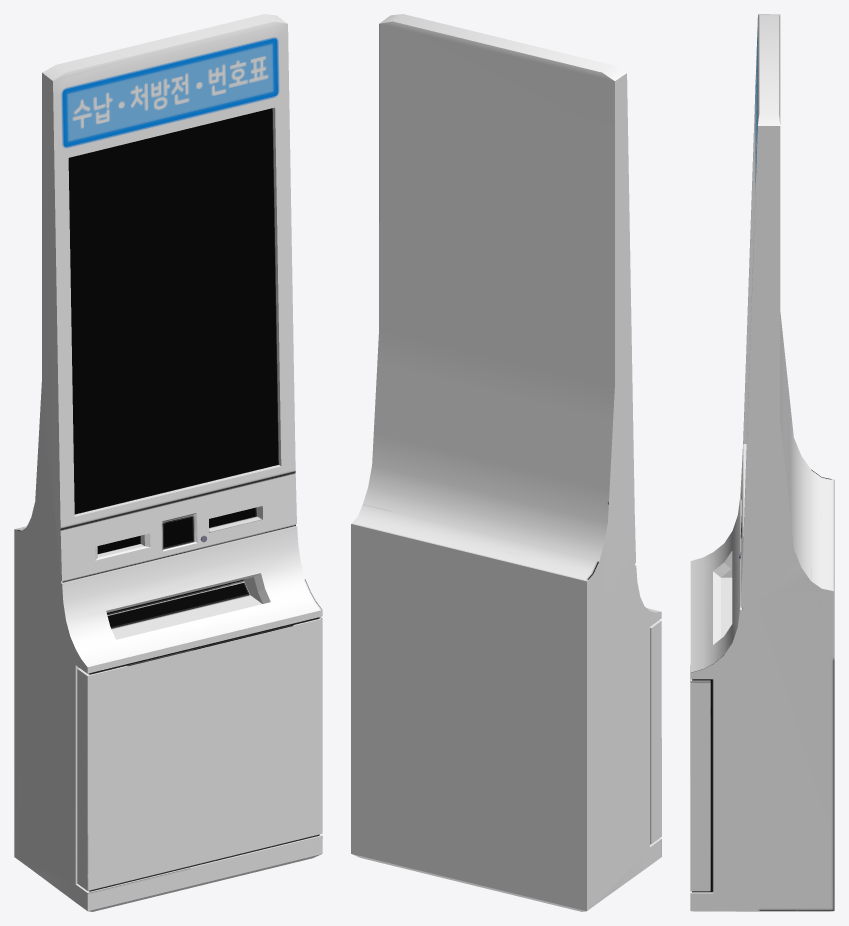
Rendered from SMK7000.fbx.
3 renders of one model, left to right at view 1: azimuth 30°, elevation 25°; view 2: azimuth 150°, elevation 25°; view 3: azimuth 270°, elevation 25°, orthographic. The views are drawn at different scales.
Parts seen in each view (by area): view 1: SMK7000; view 2: SMK7000; view 3: SMK7000.
Boxes of the visible parts, x1=… form: SMK7000: x1=14, y1=14, x2=322, y2=911; SMK7000: x1=351, y1=14, x2=661, y2=911; SMK7000: x1=690, y1=14, x2=834, y2=911.
Bounding box in the file's own units: 16.8 × 55.47 × 9.12.
